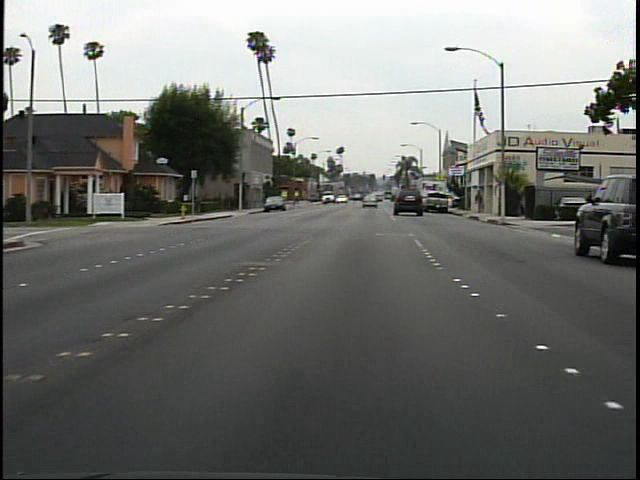person: (471, 187, 489, 218)
